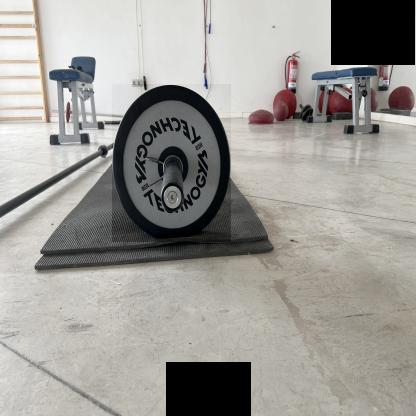barbell: (113, 86, 232, 244)
